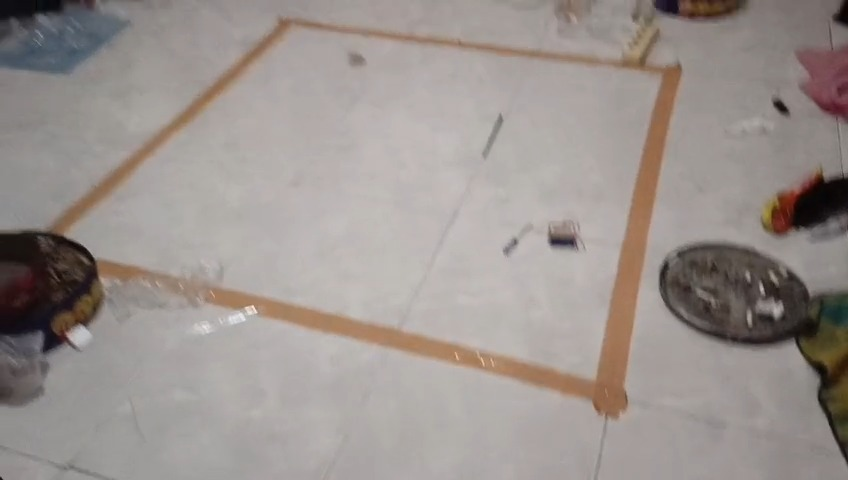floor marking: (50, 18, 681, 418), (98, 260, 179, 287)
